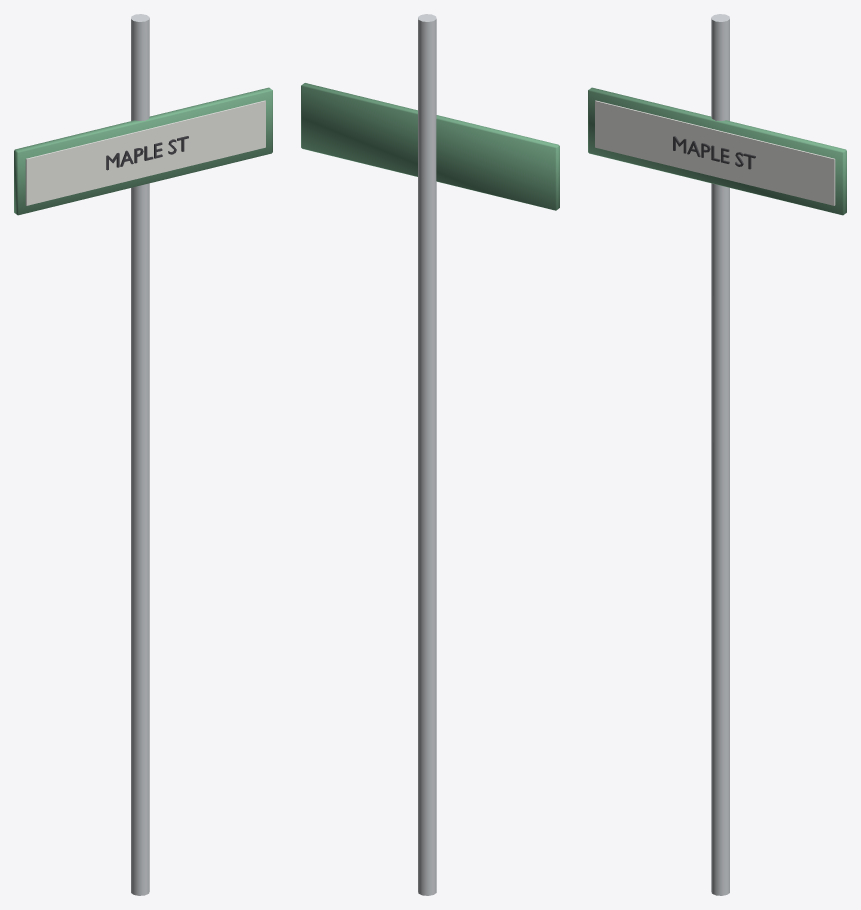
File: Sign_Street.fbx
3 views of the same model, side by side, from view 1: azimuth 30°, elevation 25°; view 2: azimuth 150°, elevation 25°; view 3: azimuth 330°, elevation 25° (orthographic).
Visible parts, largest first — view 1: LOD0; view 2: LOD0; view 3: LOD0.
Part boxes in pixels (x1=…): LOD0: x1=14, y1=14, x2=272, y2=895; LOD0: x1=301, y1=14, x2=559, y2=895; LOD0: x1=588, y1=14, x2=846, y2=895.
Size of what is drawn, in the model's own units: 92 by 300 by 7.5.
